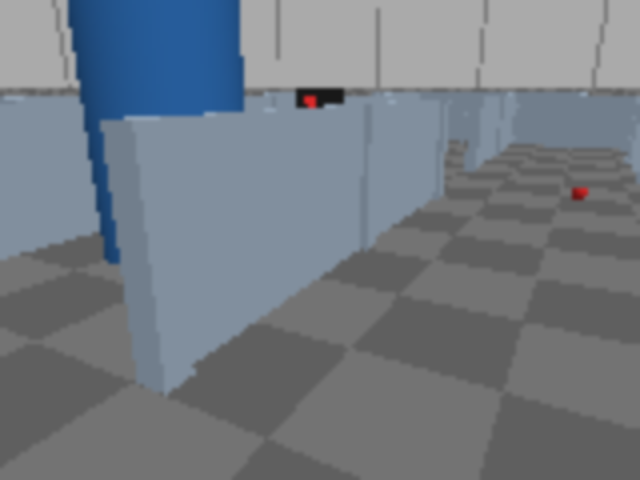puck: (567, 184, 592, 202)
